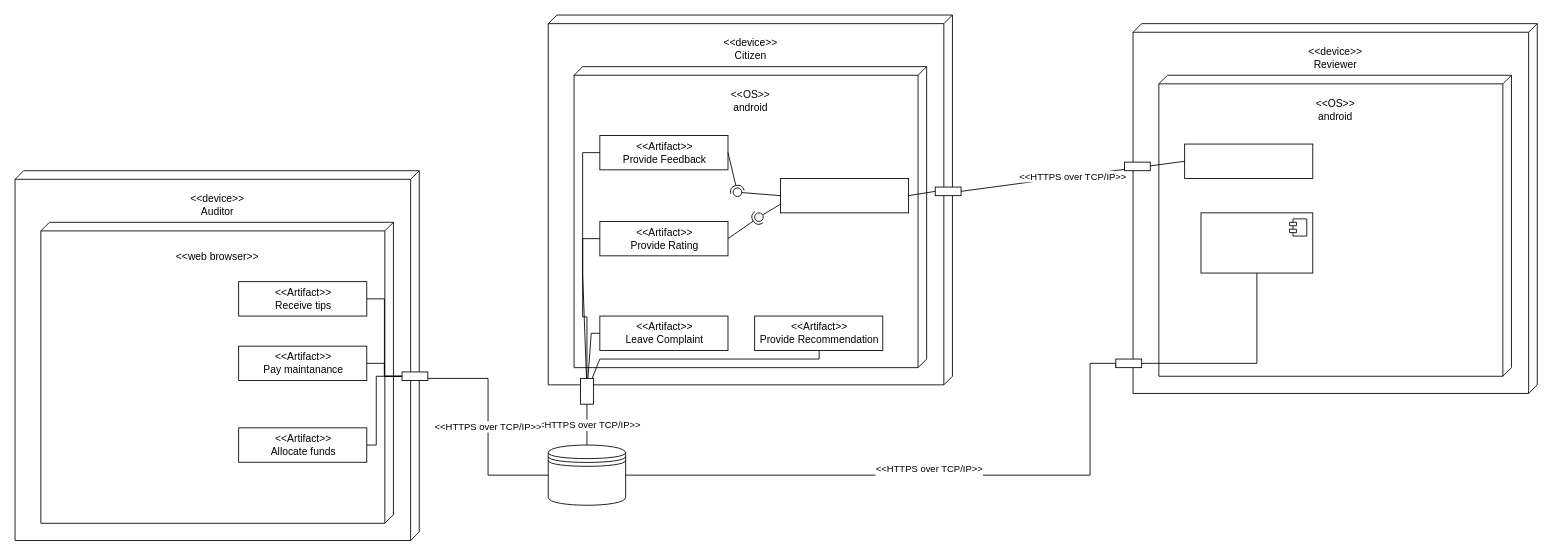
Some shapes in this 1552 by 556 pixel diagram are drawn without their labels. Here are the shapes that lost their labels. From the top down, the box of each, then its label:
(1184, 143, 1313, 178): <<Artifact>> Notify User
(780, 178, 909, 213): <<Artifact>> Aleart User
(1200, 212, 1313, 273): <<component>> Resolve Work
(547, 444, 626, 505): Database
